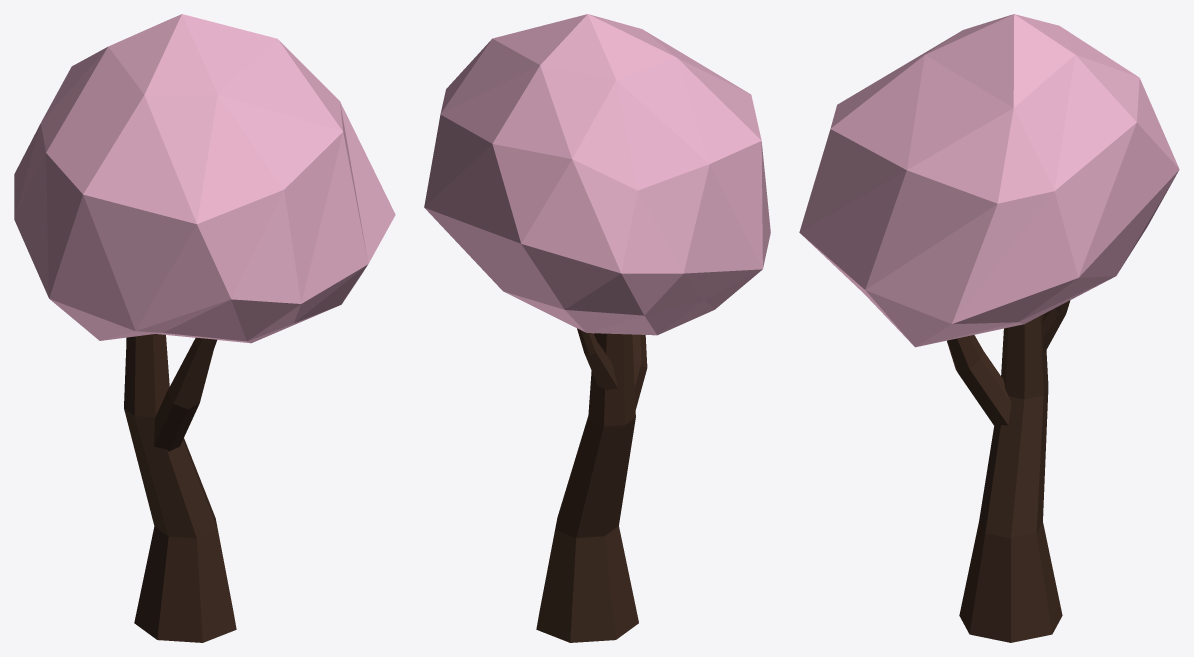
File: SM_Tree.fbx
3 views of the same model, side by side, from view 1: azimuth 30°, elevation 25°; view 2: azimuth 150°, elevation 25°; view 3: azimuth 270°, elevation 25° (orthographic).
Parts seen in each view (by area): view 1: tree; view 2: tree; view 3: tree.
Part boxes in pixels (left/top/right/bottom): tree: left=14, top=14, right=395, bottom=642; tree: left=424, top=14, right=770, bottom=642; tree: left=799, top=14, right=1179, bottom=642.
Size of the model in its own units: 357 by 617 by 351.
